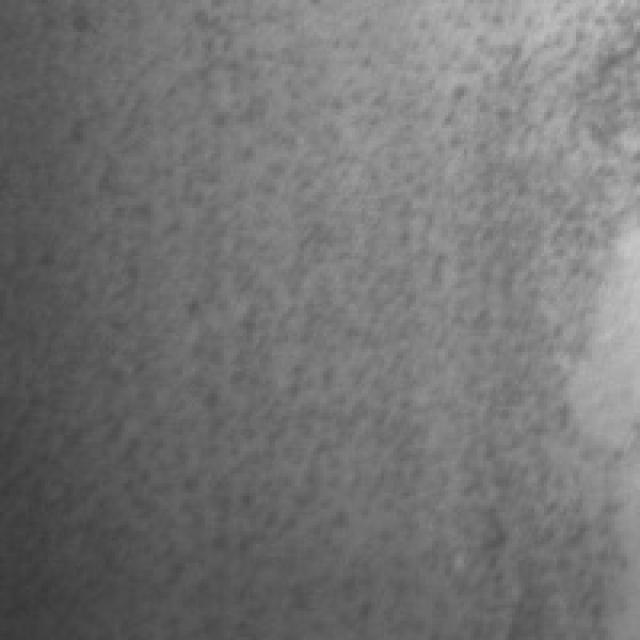pitted_surface: (29, 3, 630, 624)
